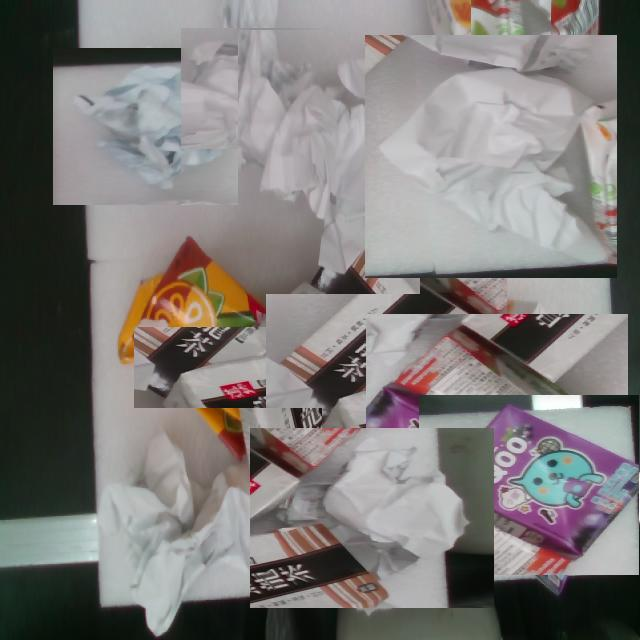juicebox: (85, 217, 349, 470), (134, 307, 456, 514), (365, 294, 628, 525), (266, 228, 507, 473), (419, 365, 640, 585)
paper: (206, 19, 485, 318), (39, 366, 322, 640), (53, 29, 238, 218), (179, 29, 361, 151)
